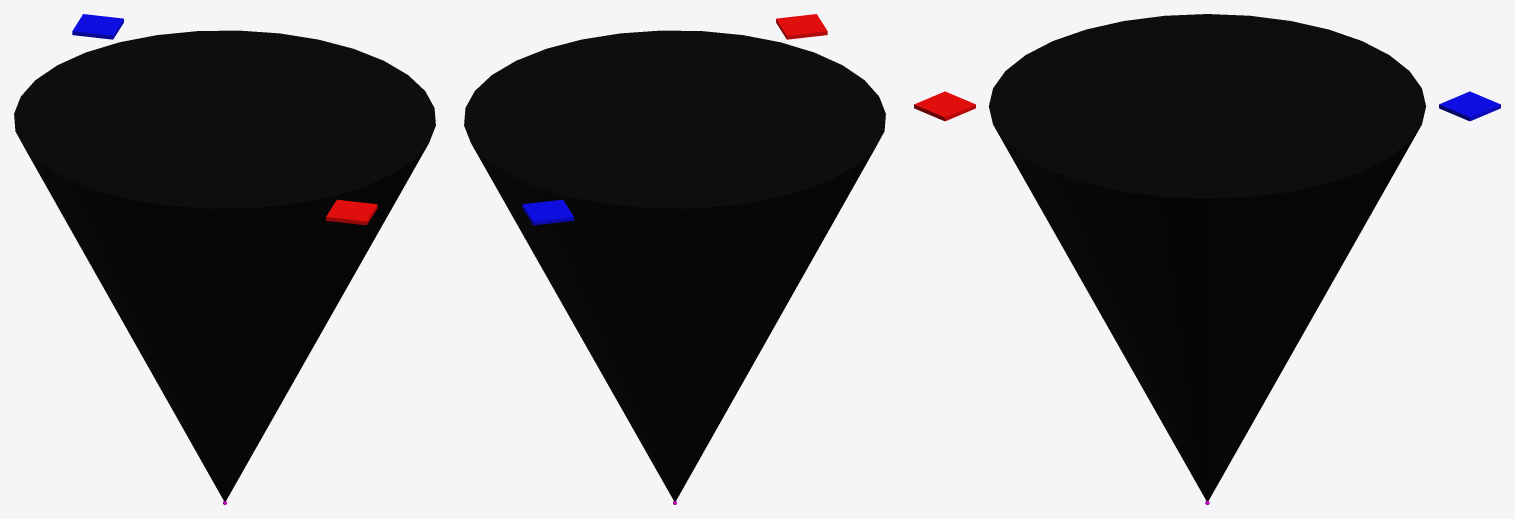
File: position-indicator--y-up.glb
3 views of the same model, side by side, from view 1: azimuth 30°, elevation 25°; view 2: azimuth 150°, elevation 25°; view 3: azimuth 270°, elevation 25° (orthographic). The views are drawn at different scales.
Visible parts, largest first — view 1: Cone, Cube, Cube.001; view 2: Cone, Cube.001, Cube; view 3: Cone, Cube, Cube.001.
Part boxes in pixels (x1=…): Cone: x1=14, y1=30, x2=435, y2=501; Cube: x1=72, y1=14, x2=123, y2=39; Cube.001: x1=326, y1=199, x2=377, y2=225; Cone: x1=464, y1=30, x2=885, y2=501; Cube.001: x1=776, y1=14, x2=827, y2=39; Cube: x1=522, y1=199, x2=573, y2=225; Cone: x1=989, y1=14, x2=1425, y2=501; Cube: x1=1439, y1=91, x2=1500, y2=121; Cube.001: x1=914, y1=91, x2=975, y2=121.
Bounding box in the file's own units: 1 × 1.01 × 1.34.
